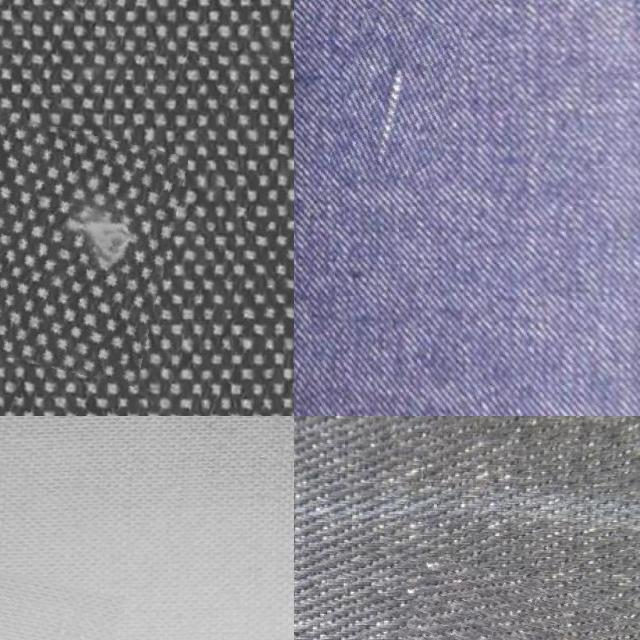Thread_other: (0, 124, 175, 378), (336, 13, 458, 187), (394, 569, 640, 640)
